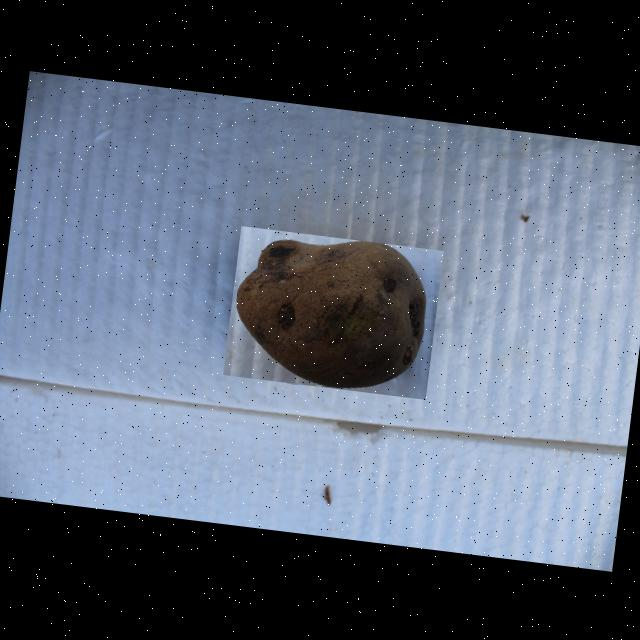Diseased-fungal potato: (222, 224, 442, 398)
